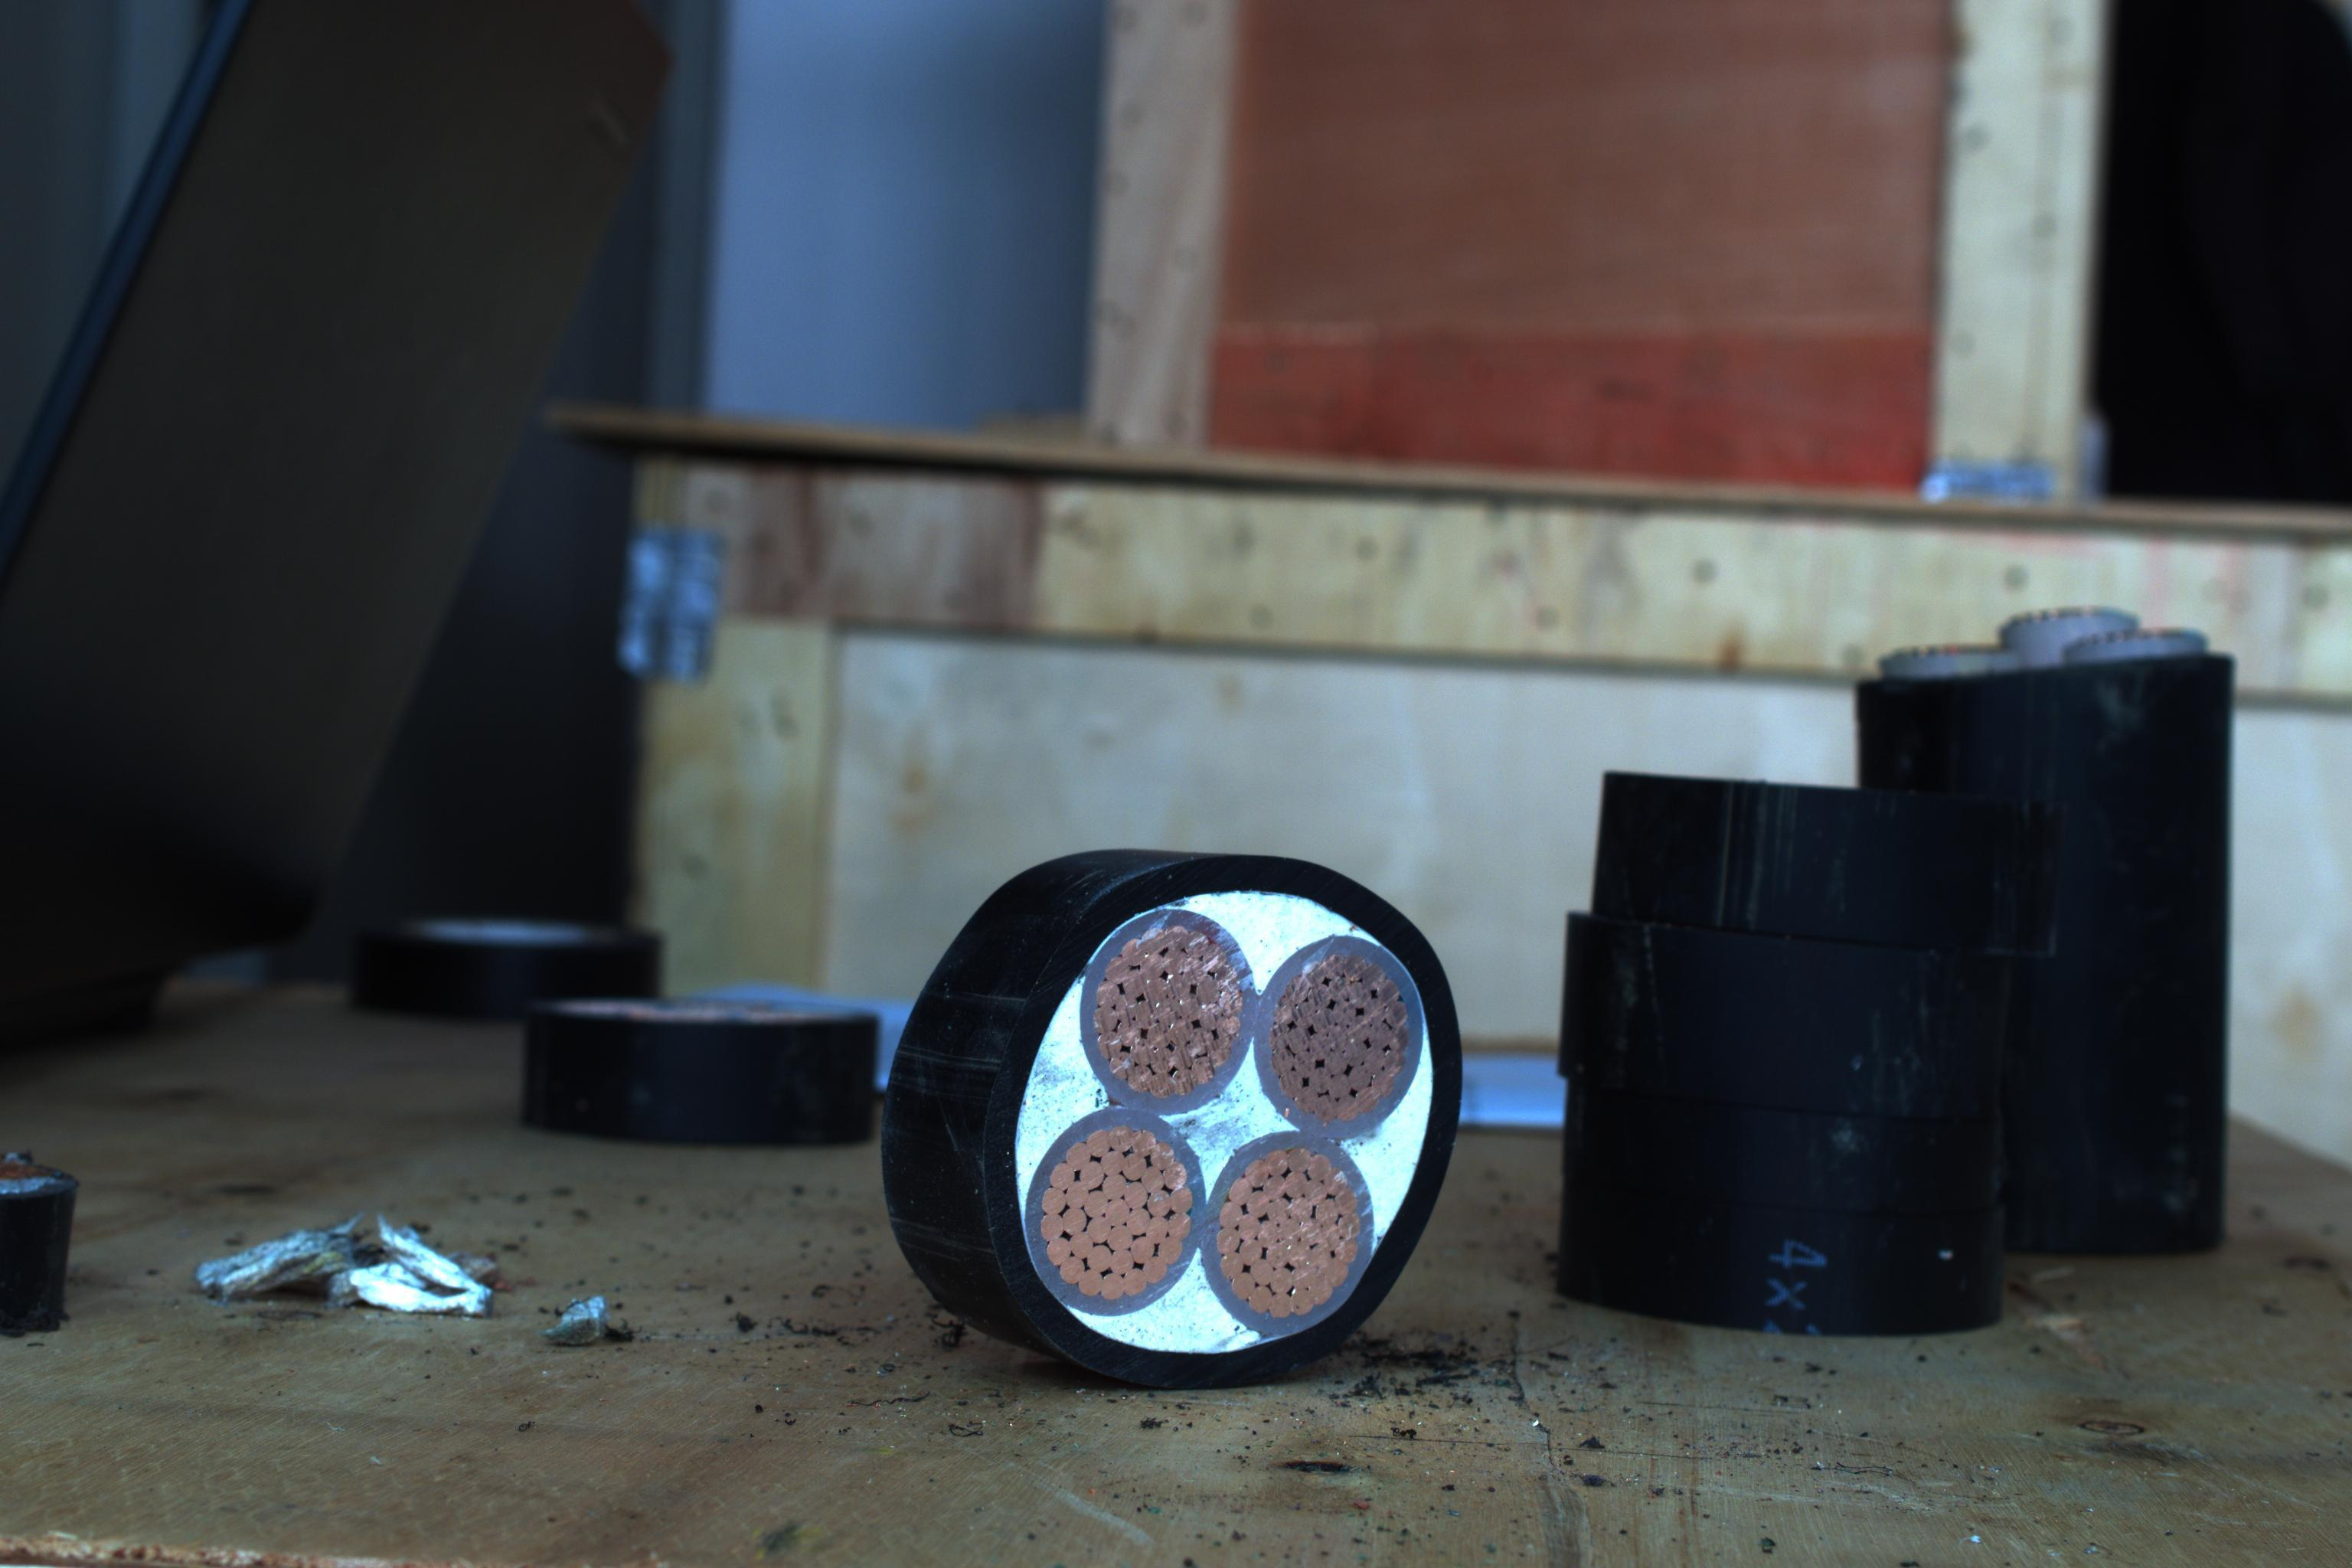YJV_0.6_1kV_4x240: (978, 854, 1484, 1379)
